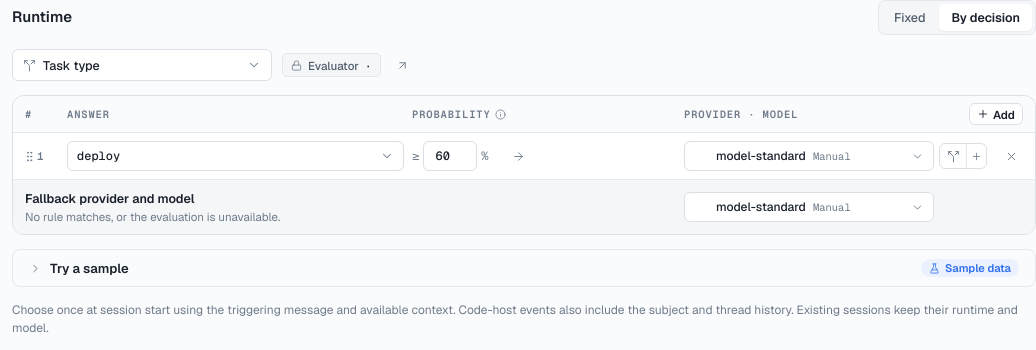
Test case: selects a complete answer in the themed menu while preserving its probability
The image size is (1036, 350).
Click the button with aria-label "Answer for rule 1" at [99, 156], box top-left (67, 141), bottom-right (404, 171)
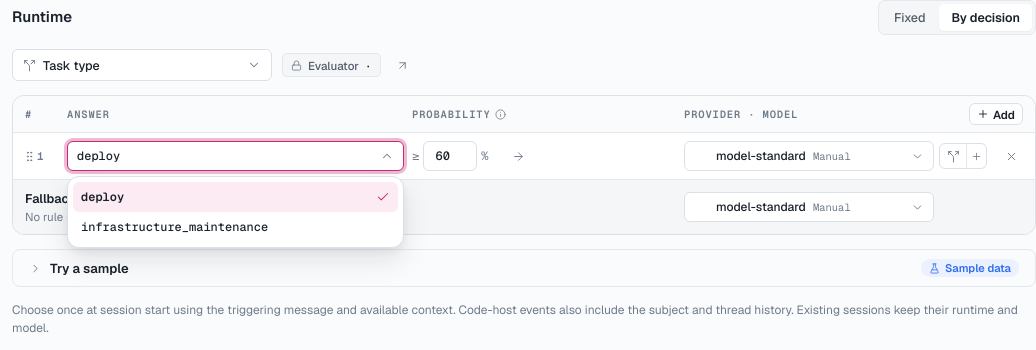
Click the menu item "infrastructure_maintenance" at [236, 227], box top-left (73, 212), bottom-right (398, 242)
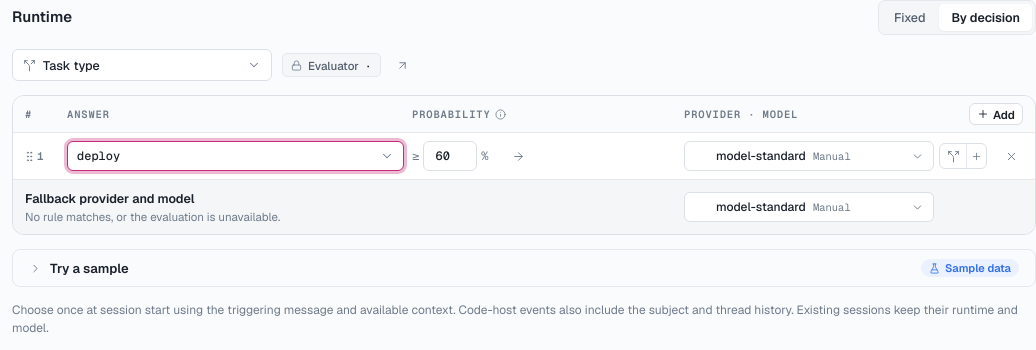
Check: the menu is gone
